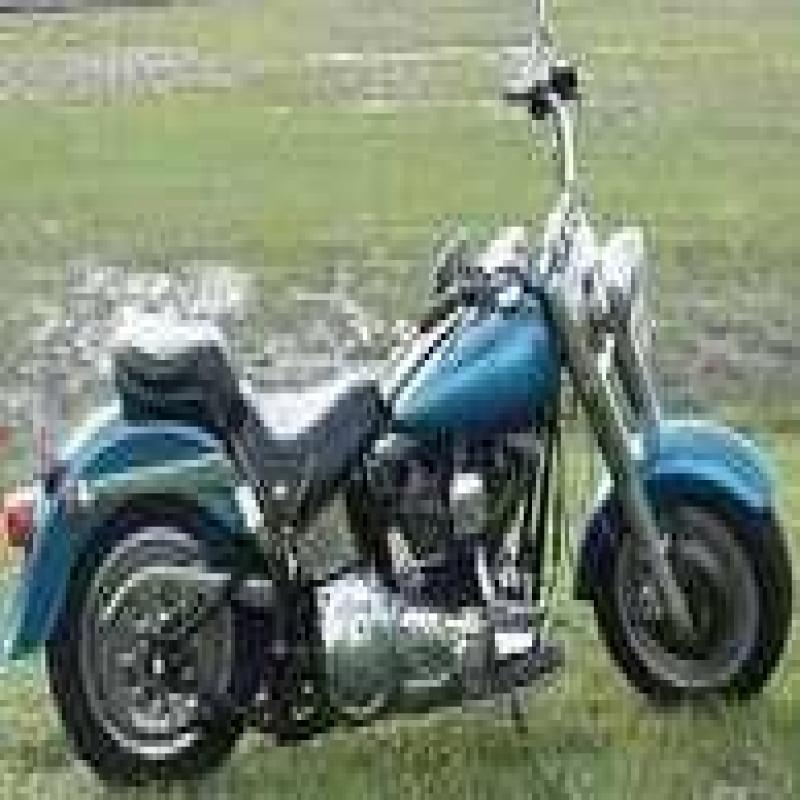bike: (18, 19, 794, 767)
